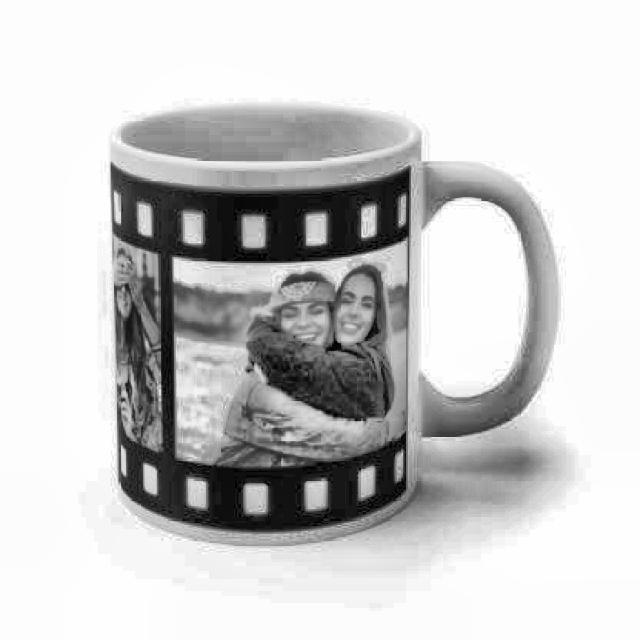Mug: (108, 100, 562, 548)
